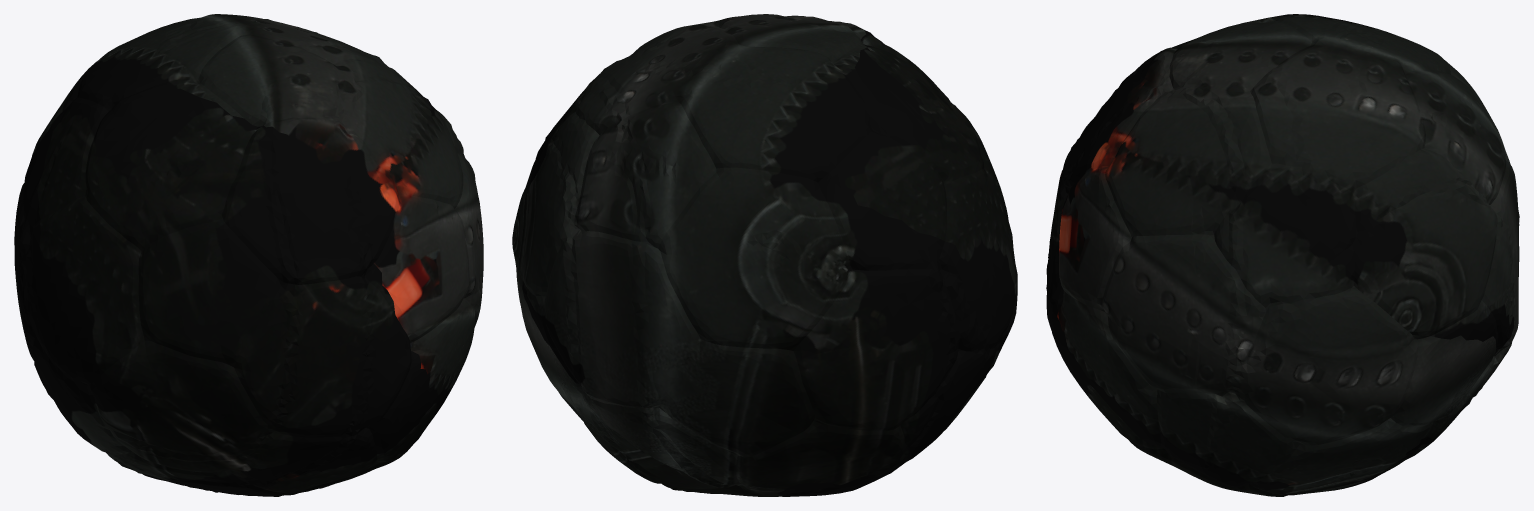
3 renders of one model, left to right at view 1: azimuth 30°, elevation 25°; view 2: azimuth 150°, elevation 25°; view 3: azimuth 270°, elevation 25°, orthographic. The views are drawn at different scales.
Parts seen in each view (by area): view 1: node; view 2: node; view 3: node.
Boxes of the visible parts, x1=… form: node: x1=14, y1=14, x2=483, y2=496; node: x1=512, y1=14, x2=1017, y2=496; node: x1=1046, y1=14, x2=1519, y2=496.
Bounding box in the file's own units: 0.1281 × 0.1278 × 0.1256.
